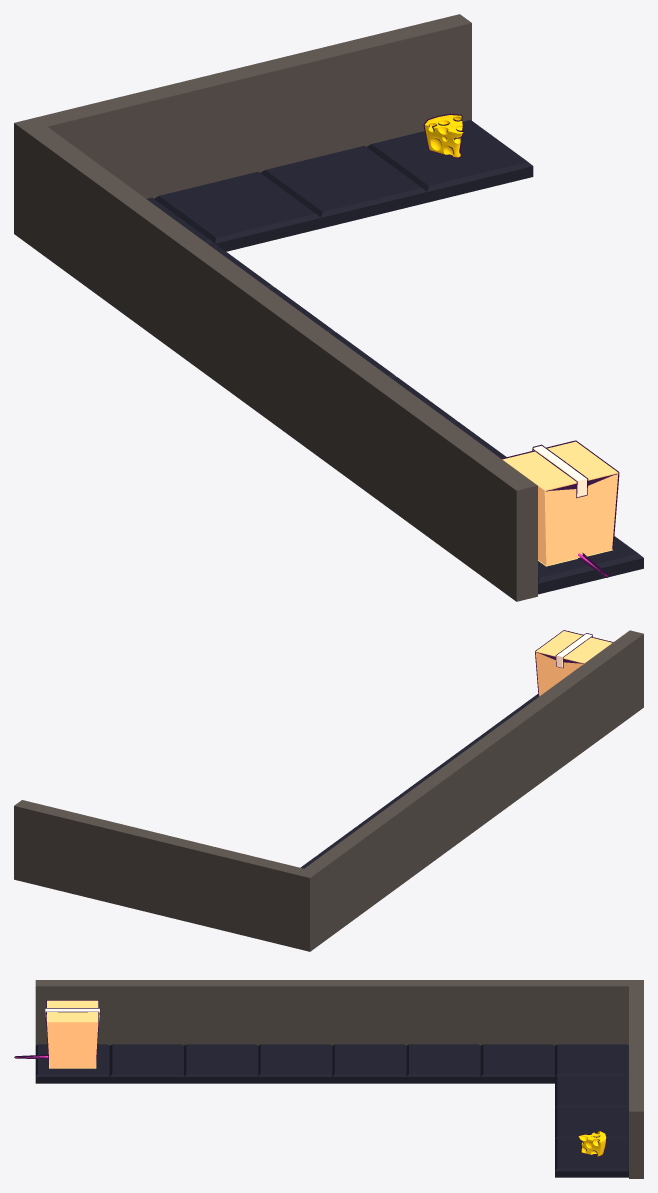
The model's file is temp-assets.gltf.
3 renders of one model, top to bottom at view 1: azimuth 30°, elevation 25°; view 2: azimuth 150°, elevation 25°; view 3: azimuth 270°, elevation 25°, orthographic. The views are drawn at different scales.
Visible parts, largest first — view 1: wall1, wall2, box1.001, tile1.009, tile1.008, tile1.010, tile1, cheese; view 2: wall1, wall2, box1.001; view 3: wall1, box1.001, tile1.004, tile1.003, tile1.005, tile1.001, tile1.002, tile1.006, wall2, tile1.010, tile1.008, tile1.007 (+3 smaller).
Part boxes in pixels (x1,y1,x2,y2): wall1: (26,126,537,601); wall2: (14,14,471,242); box1.001: (501,440,619,566); tile1.009: (260,145,427,228); tile1.008: (154,171,320,251); tile1.010: (366,120,533,202); tile1: (538,536,643,594); cheese: (423,113,464,158); wall1: (304,630,643,945); wall2: (14,800,318,951); box1.001: (535,630,613,696); wall1: (35,980,628,1045); box1.001: (45,1000,100,1068); tile1.004: (332,1044,406,1083); tile1.003: (258,1044,332,1083); tile1.005: (406,1044,480,1083); tile1.001: (109,1044,183,1083); tile1.002: (184,1044,258,1083); tile1.006: (480,1044,554,1083); wall2: (629,980,643,1178); tile1.010: (555,1138,628,1177); tile1.008: (555,1076,628,1108); tile1.007: (555,1044,628,1076).
Bounding box in the file's own units: 4.2 × 1 × 8.49.
